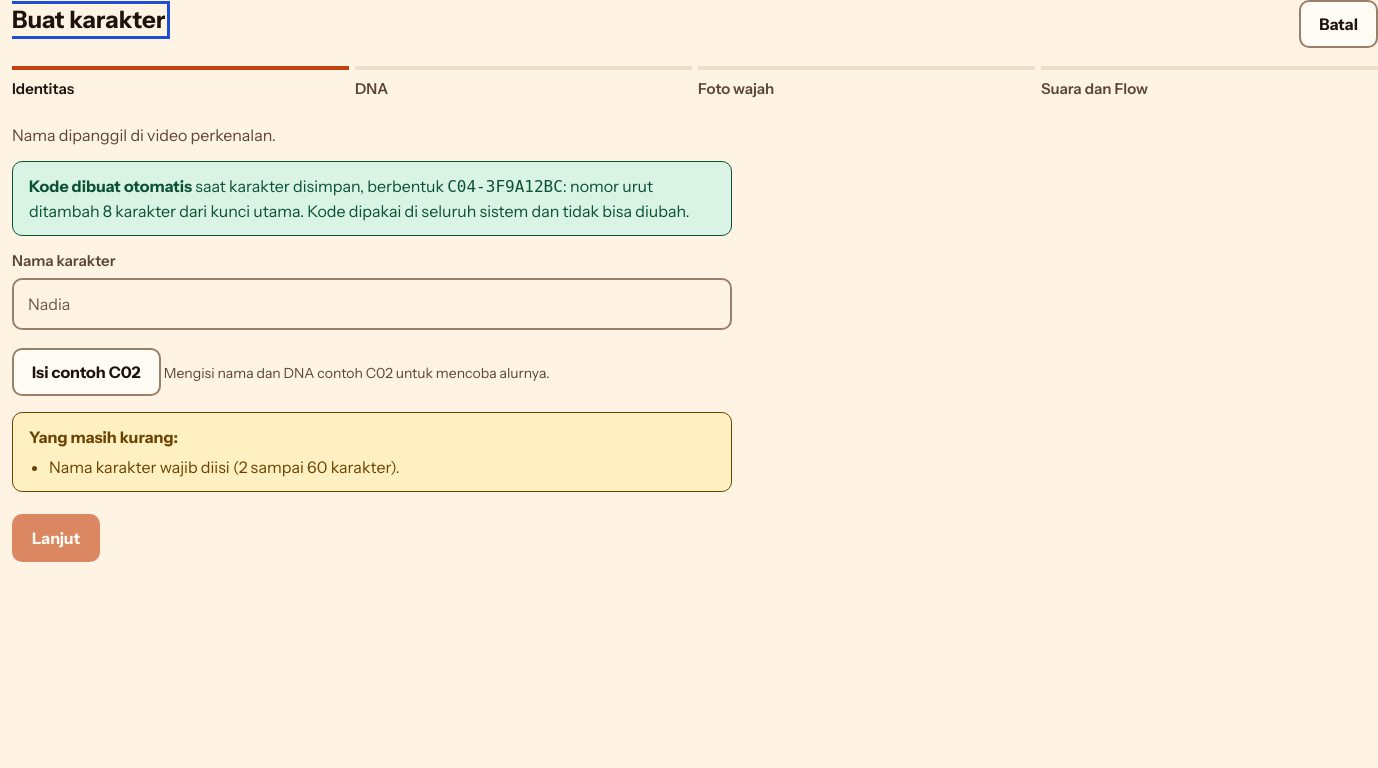
Test case: Karakter baru: foto wajah dari AI › langkah Identitas: tidak ada kolom kode, ada penjelasan kode otomatis, dan tombol contoh hanya mengisi nama dan DNA
Expected: the button with test id "lanjut" is disabled, [12,514,100,562]
Click the button with test id "isi-contoh": coordinates (86, 372) [12,348,161,396]
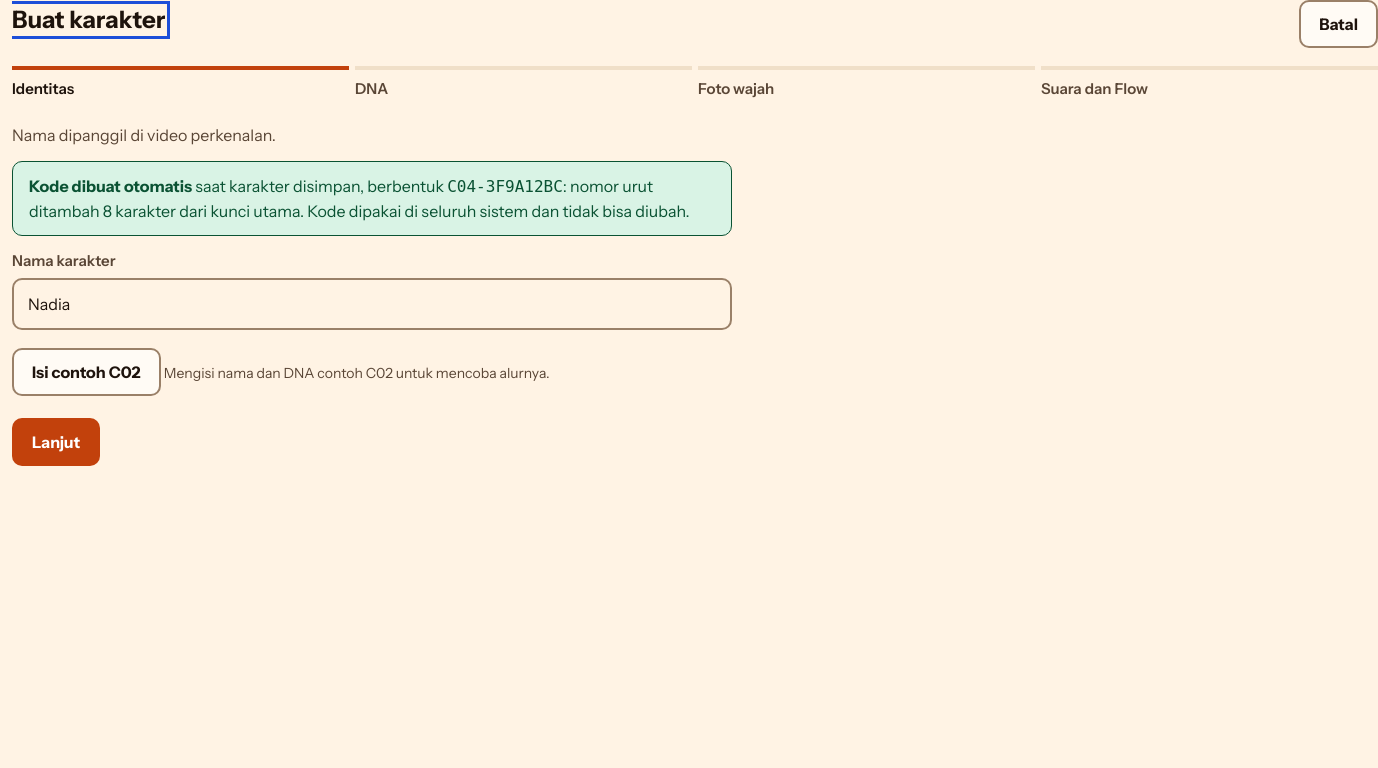
Expected: the field labelled "Nama karakter" holds "Nadia", [12,278,732,330]
Expected: the button with test id "lanjut" is enabled, [12,418,100,466]
